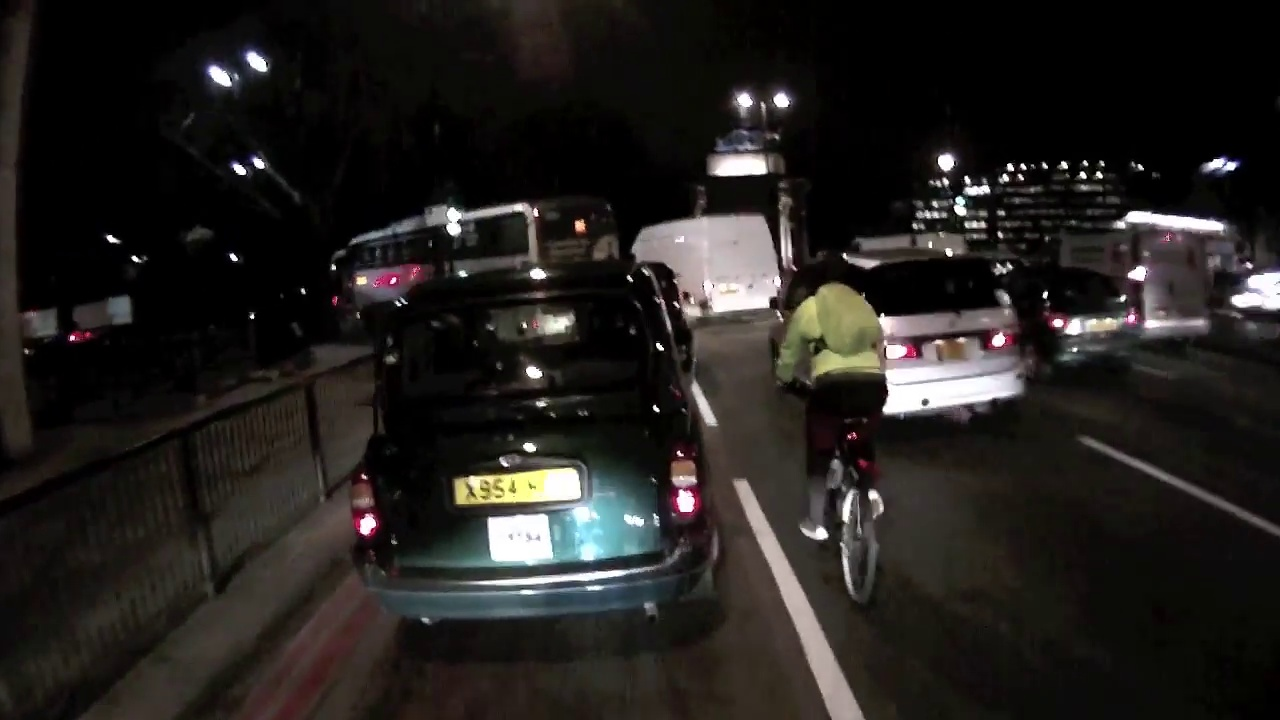cyclist_back: (764, 260, 896, 617)
